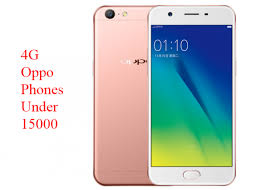oppo: (145, 6, 239, 185), (90, 3, 149, 187)
